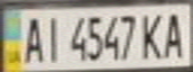4: (63, 11, 87, 62), (103, 11, 124, 61)
5: (84, 11, 106, 62)
7: (118, 10, 139, 61)
A: (160, 8, 190, 60), (18, 11, 45, 64)
I: (39, 11, 66, 63)
K: (139, 9, 166, 60)
